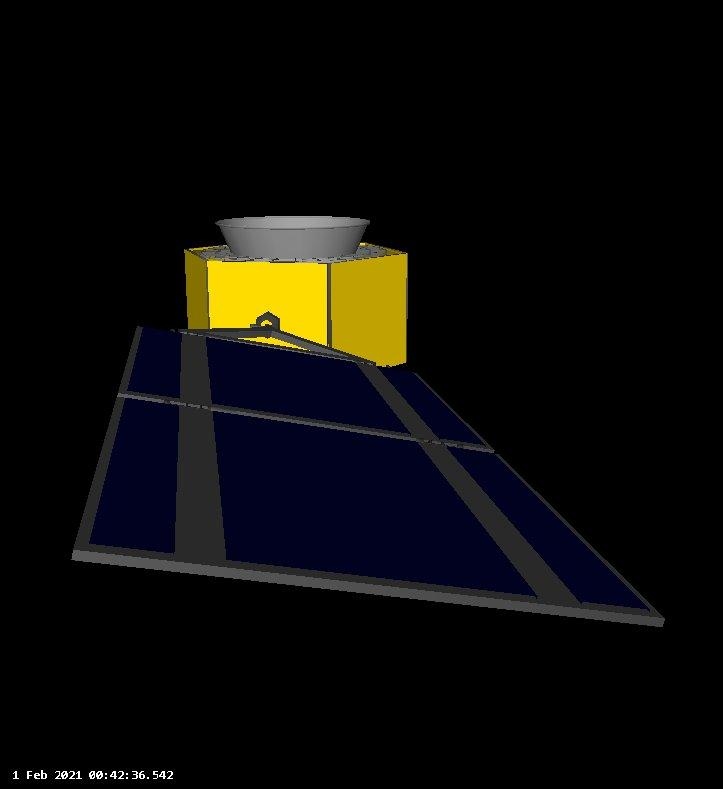body: (182, 238, 411, 371)
solar: (70, 323, 666, 629)
thruster: (216, 212, 372, 258)
